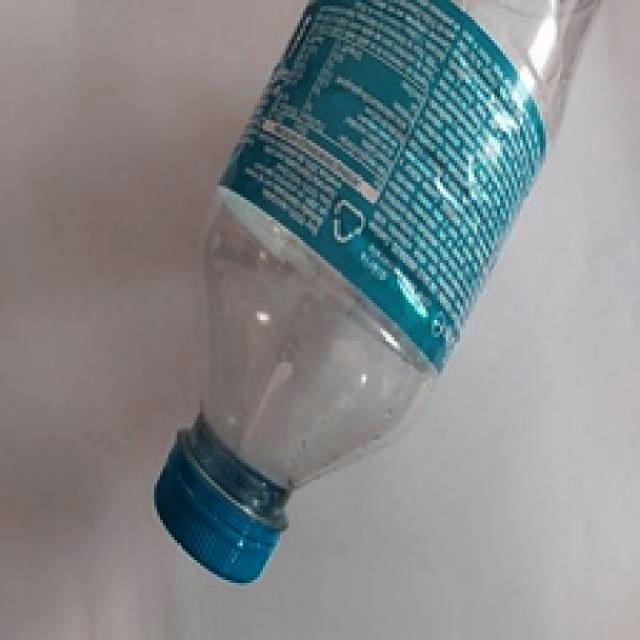bottle: (144, 3, 593, 584)
